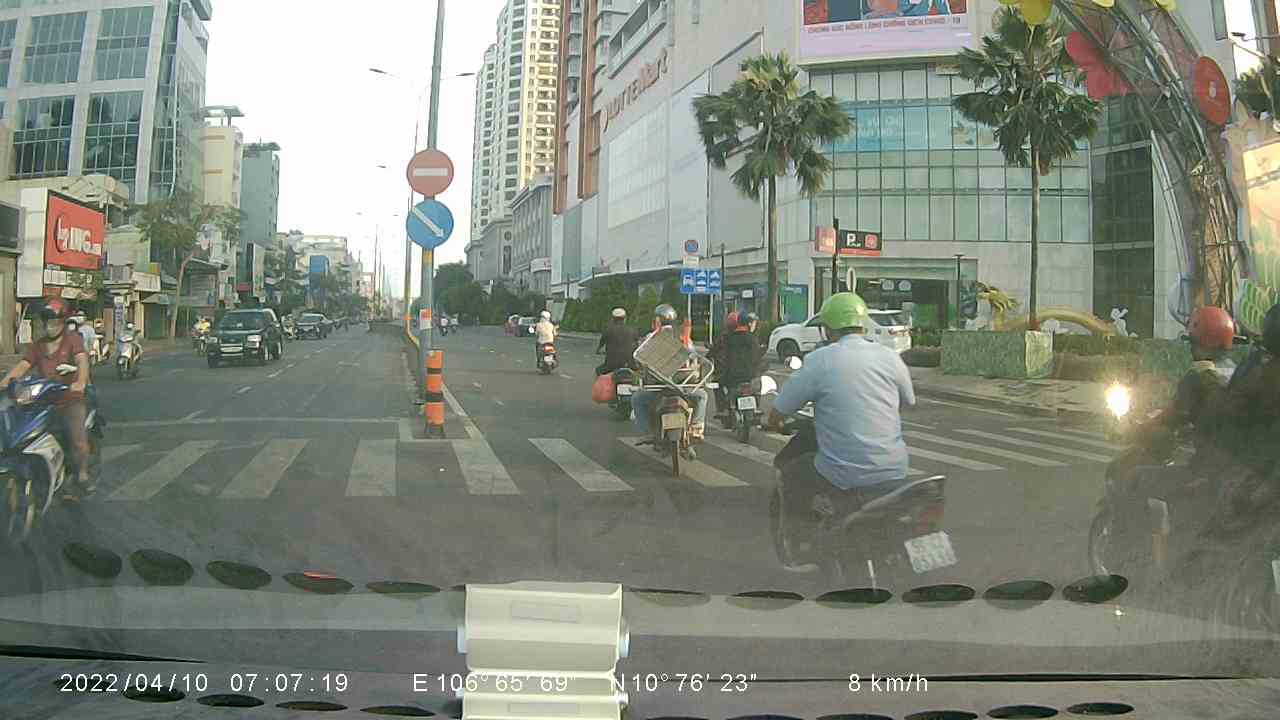Cam di nguoc chieu: (404, 144, 452, 197)
Huong di phai re phai: (403, 199, 456, 250)
